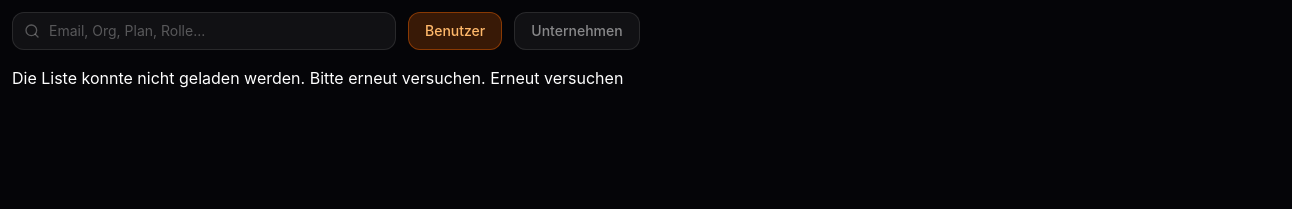
it: shows request failures and supports retry
The image size is (1292, 209).
Expected: the message is shown, [12, 66, 623, 90]
Click the button "Erneut versuchen".
click(557, 78)  # box [490, 66, 623, 90]
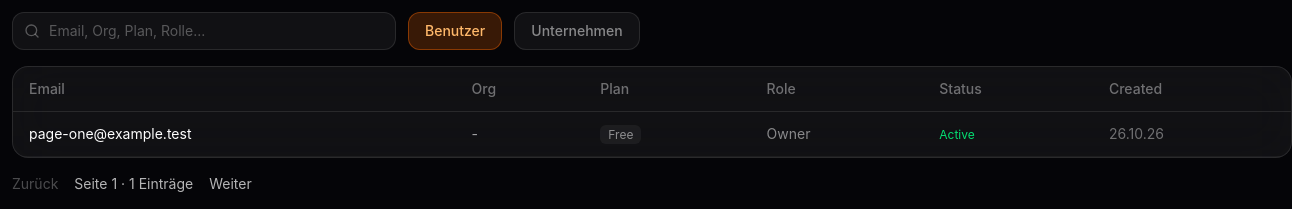
Expected: the text "page-one@example.test" is shown, [13, 112, 456, 156]
Expected: the message "Die Liste konnte nicht geladen werden. Bitte erneut versuchen. Erneut versuchen" is gone
